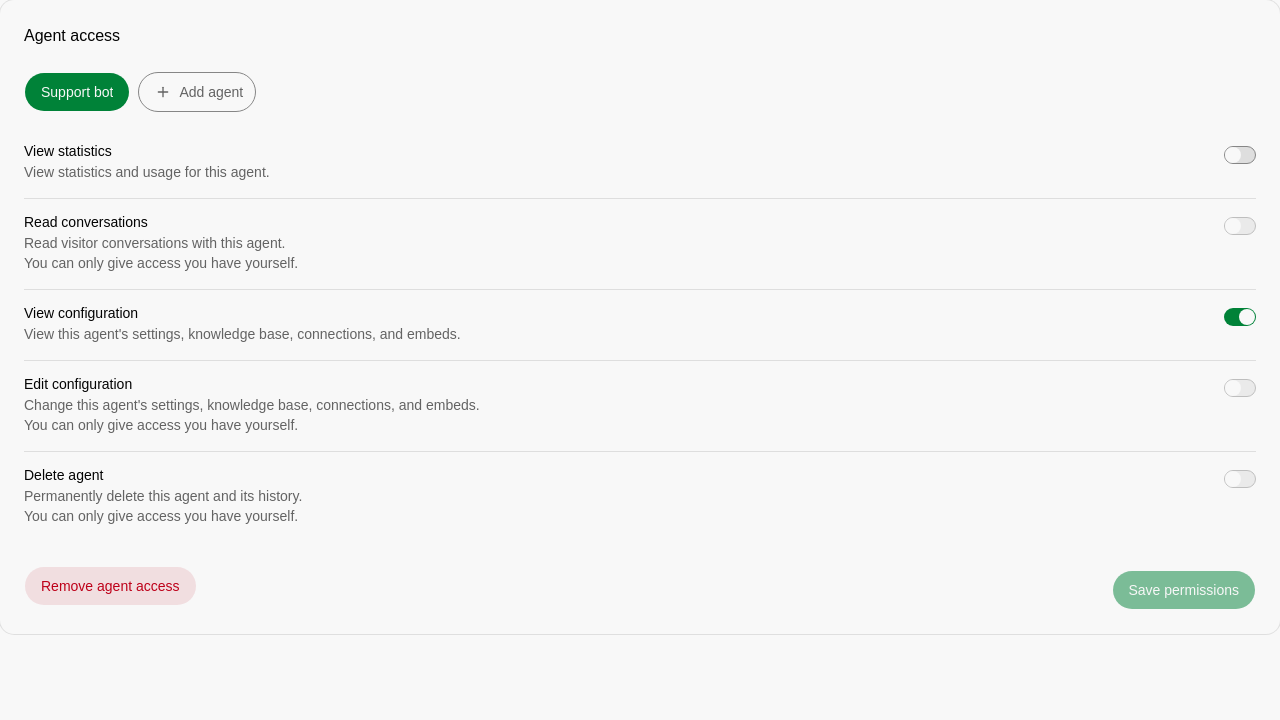
Test: RoleAccessCard › keeps the draft after a failed save and disables permissions the caller lacks
Click the switch named "View statistics". click: (1240, 155)
box: [1224,146,1256,164]
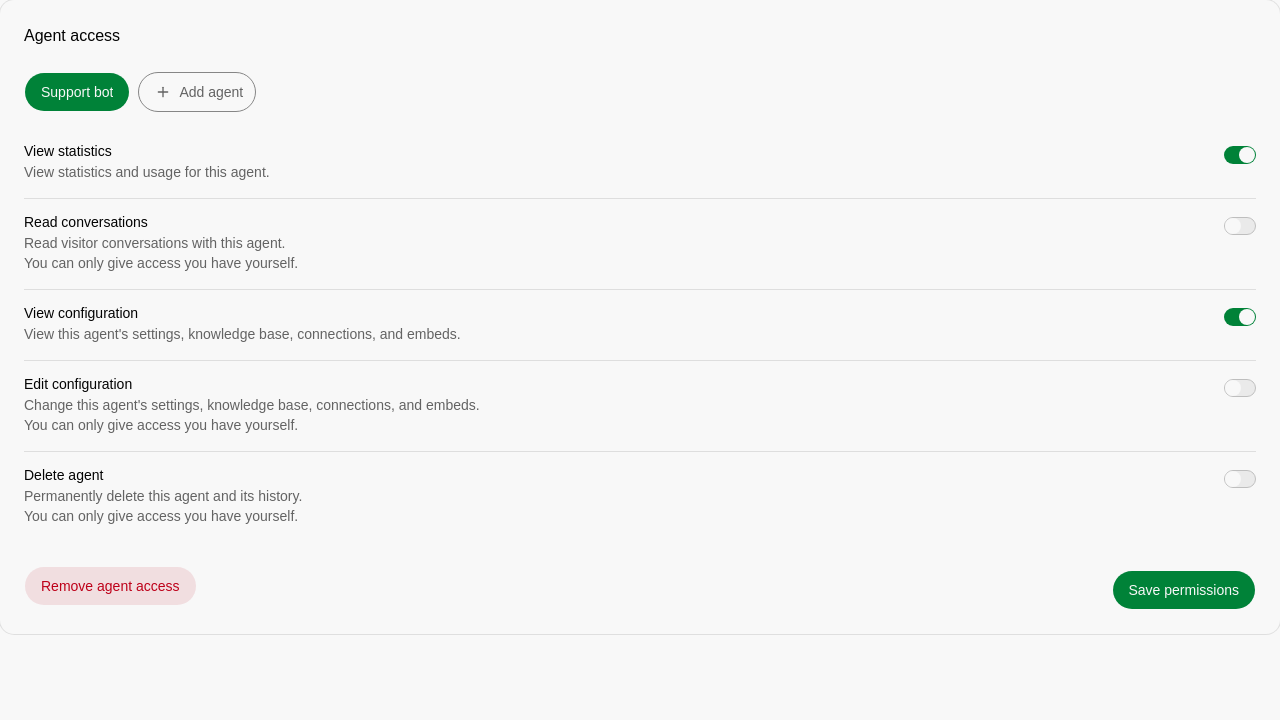
Click the button "Save permissions". click: (1184, 590)
box: [1112,570,1256,610]
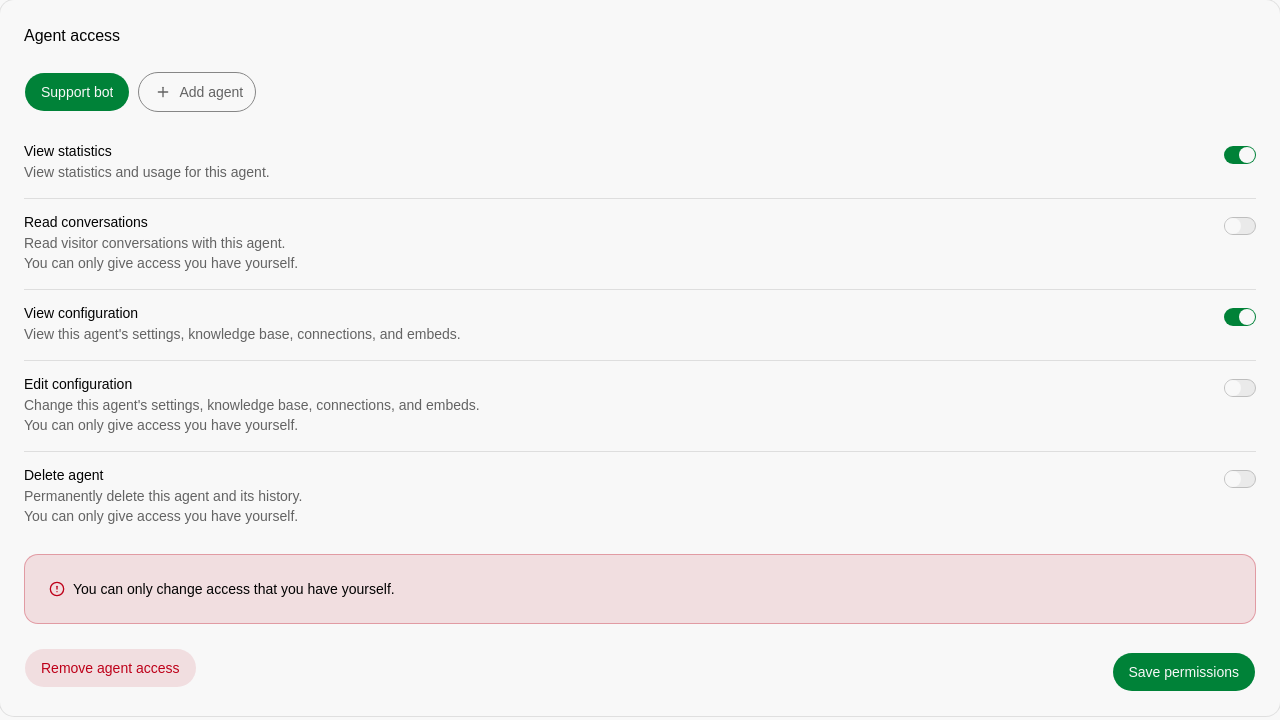
Expected: the message "You can only change access that you have yourself." is shown, [24,554,1256,624]
Click the dropdown labelled "Add agent". click: (197, 92)
box: [138,72,256,112]
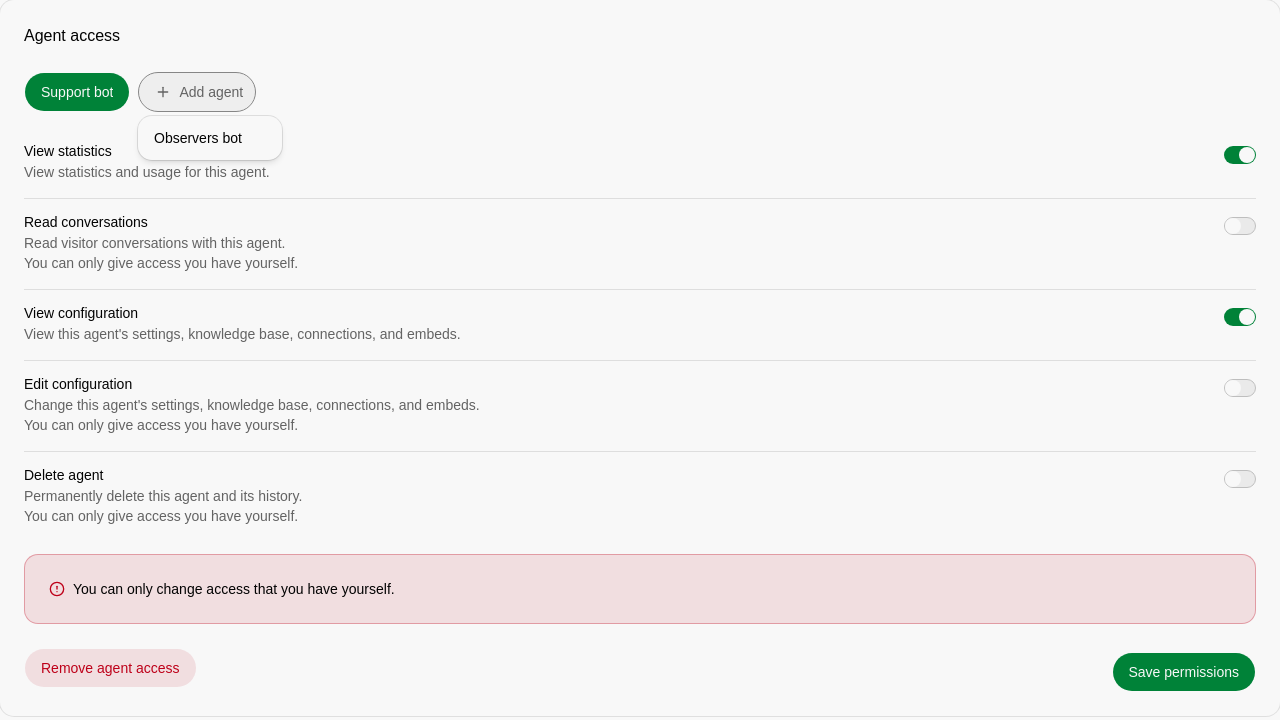
Click the option "Observers bot". click: (198, 138)
box: [154,130,242,146]
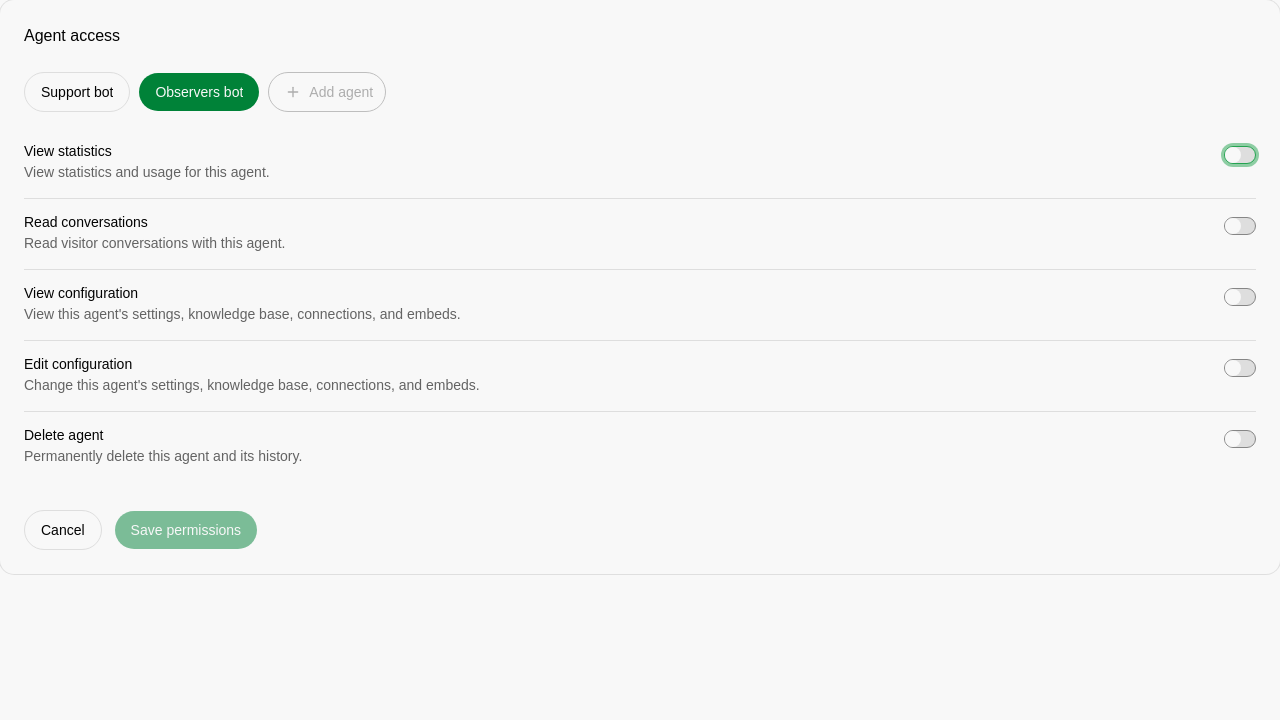
Expected: the message "You can only change access that you have yourself." is gone
